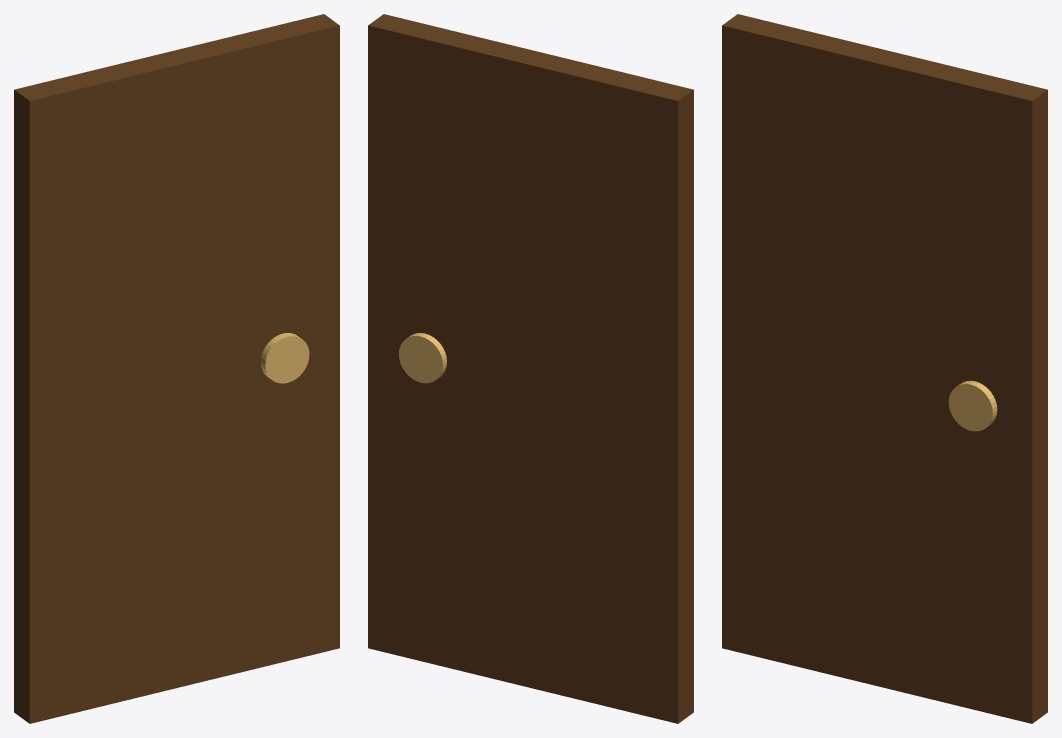
File: Дверь.fbx
The picture shows the model from 3 angles, left to right: view 1: azimuth 30°, elevation 25°; view 2: azimuth 150°, elevation 25°; view 3: azimuth 330°, elevation 25°; orthographic projection.
Parts seen in each view (by area): view 1: Дверь; view 2: Дверь; view 3: Дверь.
Part boxes in pixels (x1,y1,x2,y2): Дверь: (14,14,339,723); Дверь: (368,14,693,723); Дверь: (722,14,1047,723).
Bounding box in the file's own units: 1162 × 2231 × 158.
